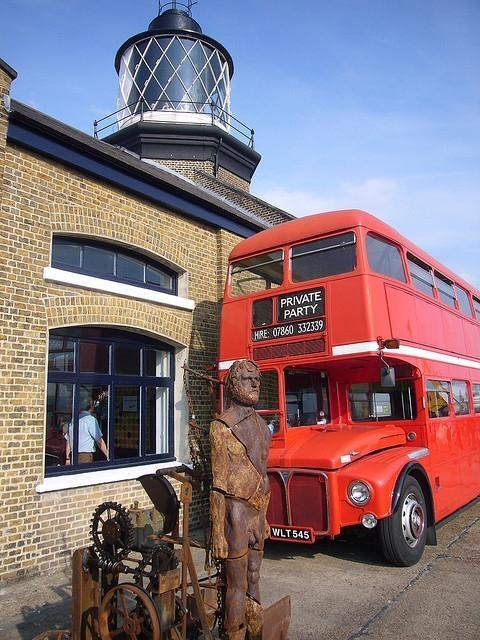bus: (219, 208, 480, 567)
